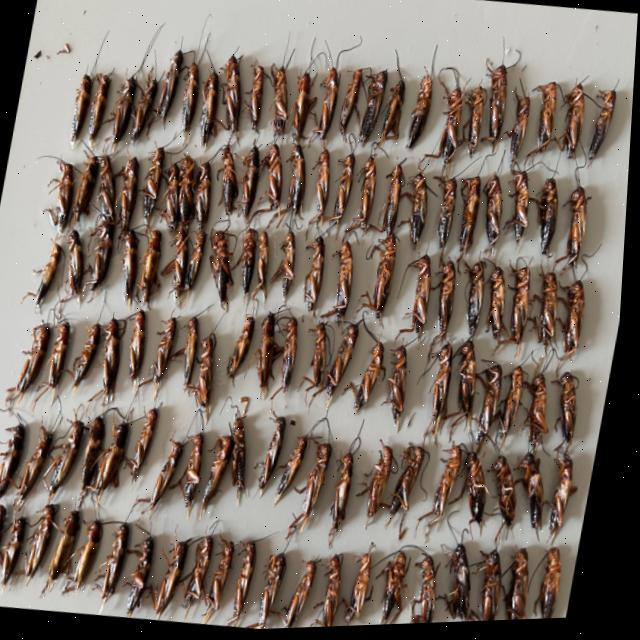no egg: (293, 445, 337, 544), (432, 449, 467, 544), (252, 555, 293, 631), (21, 425, 58, 506), (50, 510, 86, 593), (364, 446, 399, 531), (157, 543, 195, 621), (70, 520, 109, 594), (502, 270, 533, 363), (366, 236, 399, 321), (209, 539, 241, 626), (155, 438, 189, 518), (54, 420, 90, 495), (232, 543, 263, 629), (207, 437, 239, 520), (396, 448, 430, 525), (331, 326, 362, 408), (430, 347, 456, 442), (32, 504, 64, 581), (19, 324, 54, 394), (108, 523, 135, 612), (556, 458, 583, 543), (335, 455, 359, 550), (280, 438, 313, 507), (355, 345, 387, 415), (102, 424, 133, 495), (351, 158, 378, 239), (86, 417, 110, 508), (134, 535, 160, 619), (1, 422, 30, 497), (190, 537, 219, 612), (524, 456, 550, 539), (529, 87, 558, 161), (292, 563, 323, 631), (485, 68, 508, 157), (413, 559, 443, 627), (559, 88, 586, 163), (361, 74, 388, 149), (330, 244, 355, 324), (323, 556, 350, 630), (157, 318, 181, 401), (77, 323, 105, 394), (352, 551, 378, 627), (481, 368, 506, 447), (453, 547, 478, 625), (590, 95, 617, 167), (166, 229, 191, 306), (503, 370, 528, 447), (158, 51, 184, 125), (137, 409, 163, 483), (387, 554, 413, 628), (472, 457, 496, 537), (541, 552, 568, 623), (199, 334, 220, 425), (538, 276, 561, 359), (8, 518, 33, 594), (564, 285, 588, 364), (529, 378, 553, 457), (408, 76, 433, 151), (265, 419, 291, 491), (567, 189, 589, 274), (441, 90, 464, 171), (379, 81, 406, 150), (133, 69, 158, 143), (335, 156, 357, 240), (186, 434, 209, 514), (213, 233, 236, 312), (413, 257, 434, 342), (53, 321, 74, 406), (560, 376, 582, 457), (508, 175, 532, 249), (231, 318, 259, 381), (39, 241, 64, 311), (93, 216, 116, 292), (485, 553, 509, 625), (75, 154, 100, 223), (114, 78, 137, 152), (500, 459, 523, 532), (513, 552, 536, 624), (275, 233, 298, 305), (261, 315, 280, 401), (294, 74, 317, 145), (146, 149, 166, 230), (54, 159, 76, 232), (462, 180, 483, 256), (90, 75, 112, 147), (307, 238, 328, 313), (384, 167, 406, 238), (72, 74, 93, 148), (107, 319, 124, 410), (144, 231, 164, 308), (440, 182, 459, 263), (393, 349, 411, 434), (319, 70, 340, 142), (67, 230, 87, 305), (262, 145, 284, 213), (341, 72, 363, 139), (541, 182, 560, 259), (225, 56, 242, 140), (512, 95, 531, 170), (490, 270, 509, 344), (133, 311, 150, 393), (122, 158, 140, 235), (243, 148, 261, 225), (412, 173, 430, 249), (288, 146, 307, 217), (183, 64, 200, 143), (202, 69, 219, 147), (254, 231, 272, 304), (471, 264, 488, 341), (125, 231, 142, 308), (180, 157, 199, 225), (188, 231, 209, 292), (464, 343, 480, 423), (468, 88, 486, 159), (442, 264, 459, 339), (272, 66, 289, 140), (286, 320, 301, 400), (487, 178, 504, 248), (164, 164, 182, 230), (101, 157, 118, 222), (238, 418, 251, 503), (224, 148, 240, 215), (250, 62, 265, 133), (244, 230, 260, 296), (315, 324, 331, 390), (188, 318, 202, 392), (198, 164, 213, 231), (319, 150, 332, 218), (0, 505, 12, 561), (176, 353, 184, 361), (233, 178, 238, 186)
